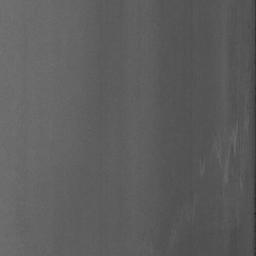Silk spot: (249, 61, 256, 254), (230, 117, 240, 171), (230, 96, 237, 114)
